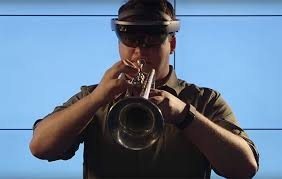hololens: (104, 16, 183, 50)
